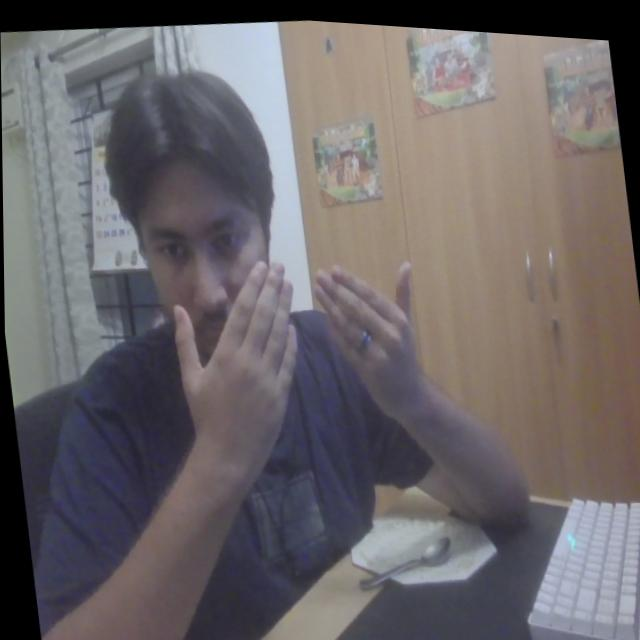thankyou: (161, 229, 439, 495)
